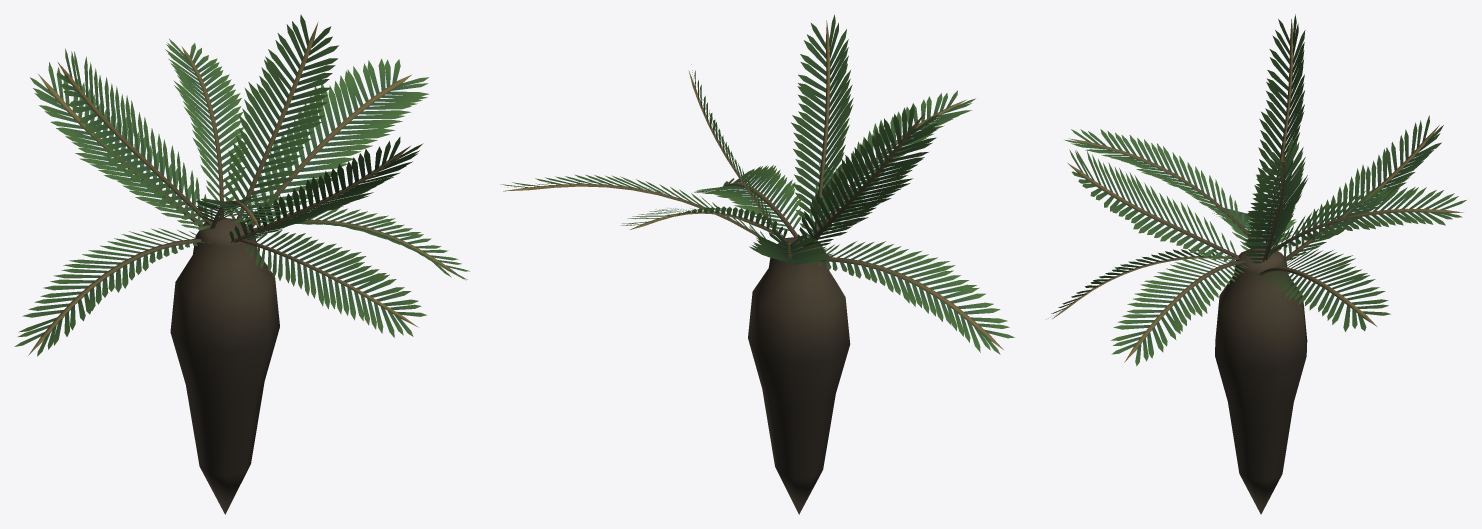
3 views of the same model, side by side, from view 1: azimuth 30°, elevation 25°; view 2: azimuth 150°, elevation 25°; view 3: azimuth 270°, elevation 25° (orthographic). The views are drawn at different scales.
Visible parts, largest first — view 1: plant.018; view 2: plant.018; view 3: plant.018.
Part boxes in pixels (<box>): plant.018: <box>14,14,469,514</box>; plant.018: <box>500,14,1014,514</box>; plant.018: <box>1046,14,1466,514</box>.
Size of the model in its own units: 0.5 by 0.4902 by 0.4281.
